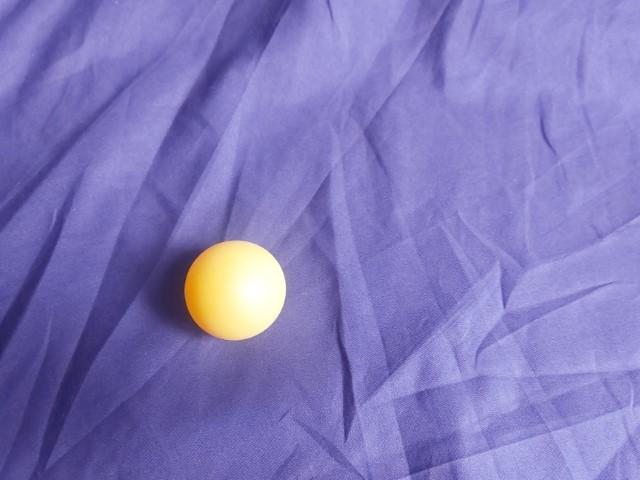oball: (347, 135, 461, 248)
